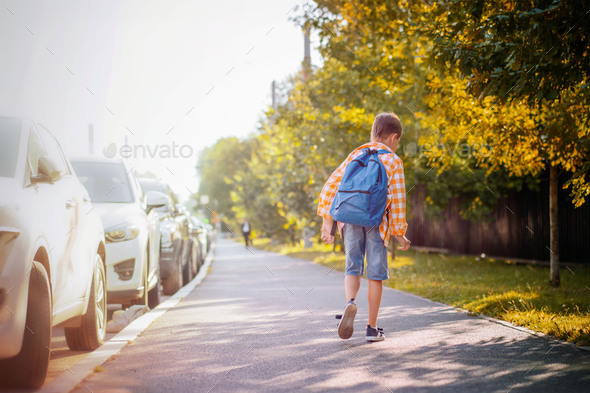car: (1, 113, 110, 390), (74, 157, 161, 315), (141, 178, 188, 295)
person: (313, 108, 413, 342), (238, 217, 252, 245)
